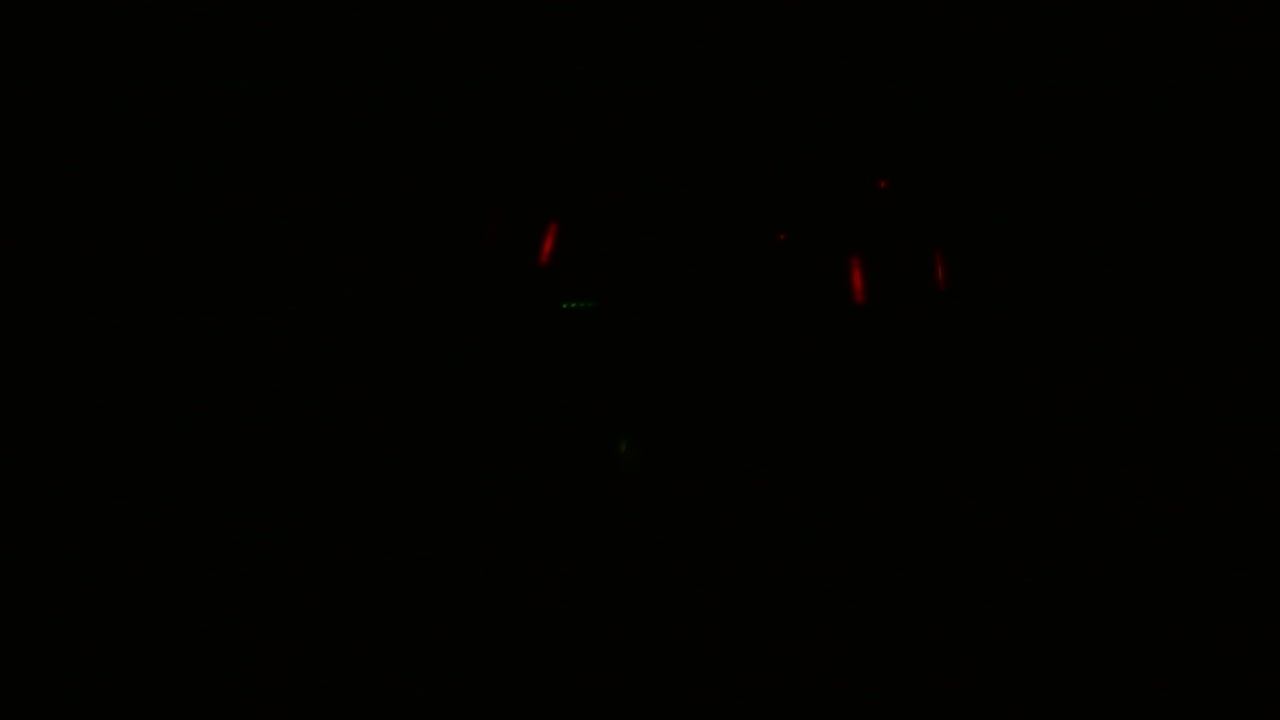pair1: (844, 248, 947, 301)
